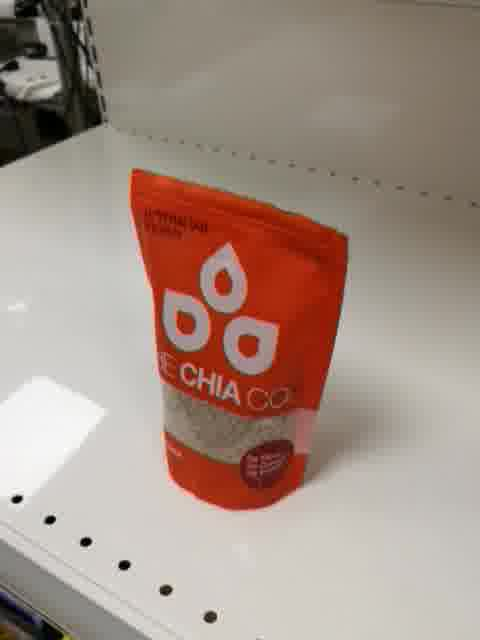whitechia: (126, 166, 350, 513)
